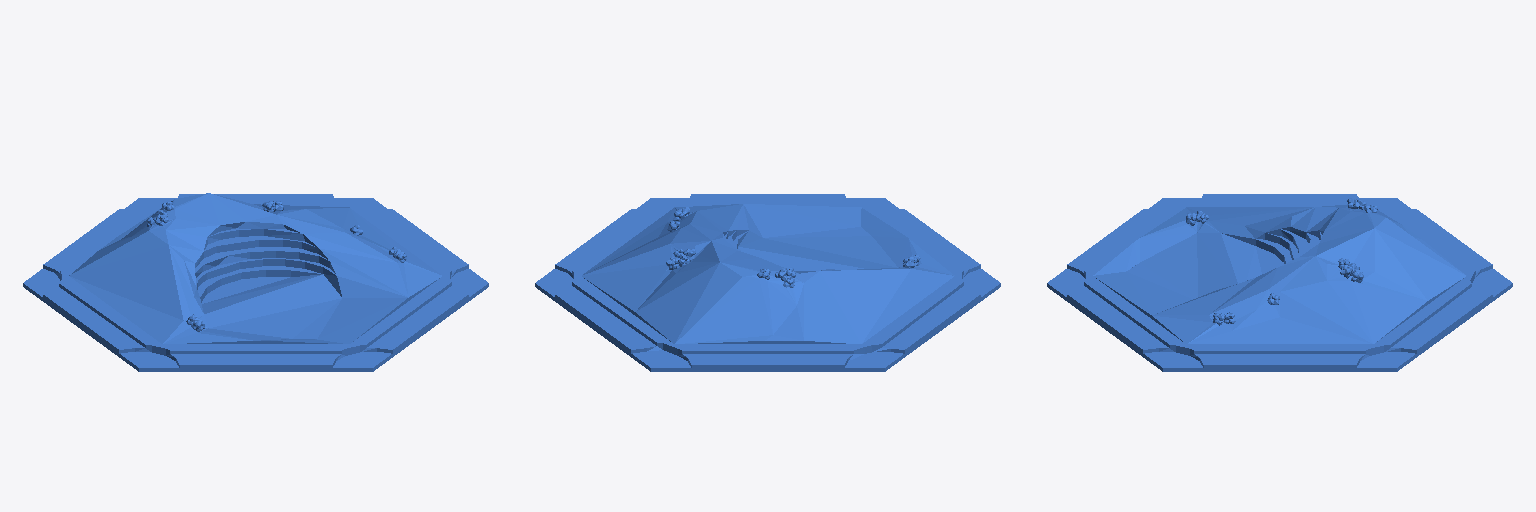
The model's file is Ore.obj.
The picture shows the model from 3 angles: view 1: azimuth 30°, elevation 25°; view 2: azimuth 150°, elevation 25°; view 3: azimuth 270°, elevation 25°; orthographic projection.
Parts seen in each view (by area): view 1: Field, Hex_Border; view 2: Field, Hex_Border; view 3: Field, Hex_Border.
Boxes of the visible parts, x1,y1,x2,y2 form: Field: [69, 193, 441, 343]; Hex_Border: [23, 194, 488, 371]; Field: [582, 204, 954, 343]; Hex_Border: [535, 194, 1000, 371]; Field: [1093, 198, 1466, 343]; Hex_Border: [1047, 194, 1512, 371].
Size of the model in its own units: 79.08 by 13.4 by 91.31.